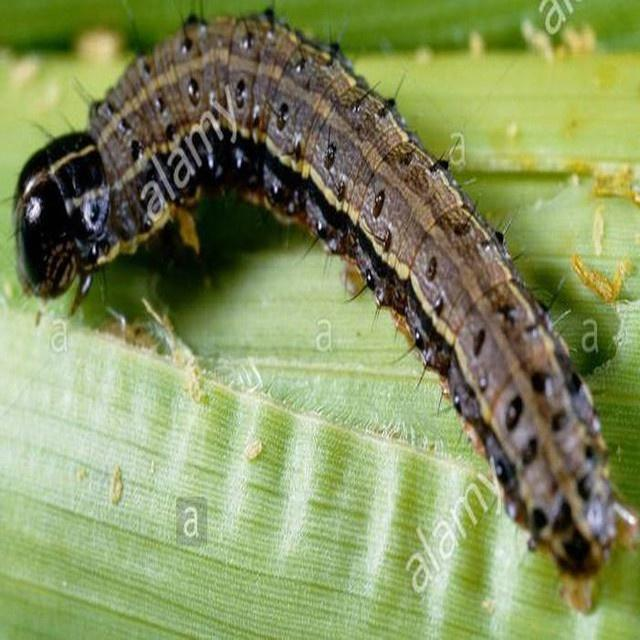gusano_cogollero: (19, 10, 608, 570)
